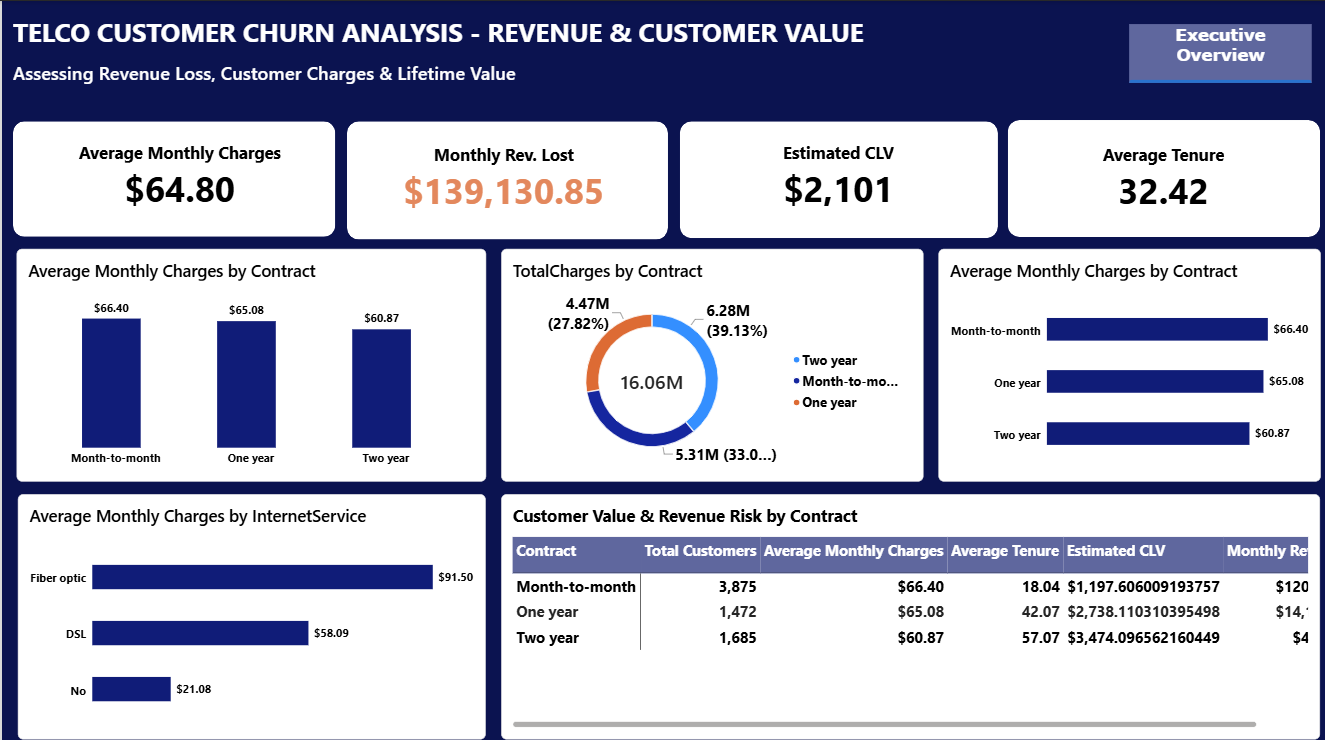

What the dashboard file says about the page in this screenshot:
{"tool":"powerbi","page":{"name":"REVENUE & CUSTOMER VALUE","canvas":[1920,1080],"ordinal":4},"visuals":[{"type":"shape","box":[16.5,172.9,465.2,166.7],"z":0},{"type":"shape","box":[498.2,172.9,463.2,170.8],"z":1000},{"type":"shape","box":[977.8,172.9,459,168.8],"z":2000},{"type":"shape","box":[1451.2,170.9,450.8,168.8],"z":3000},{"type":"cardVisual","fields":{"Data":["Telecom_Churn_Dataset.Average Tenure"]},"box":[1469.8,172.9,411.7,166.7],"z":4000},{"type":"cardVisual","fields":{"Data":["Telecom_Churn_Dataset.Estimated CLV"]},"box":[992.2,168.8,430.2,170.9],"z":5000},{"type":"cardVisual","fields":{"Data":["Telecom_Churn_Dataset.Average Monthly Charges"]},"box":[30.9,168.8,450.8,170.9],"z":6000},{"type":"cardVisual","fields":{"Data":["Telecom_Churn_Dataset.Monthly Rev. Lost"]},"box":[510.5,170.9,428.2,170.9],"z":7000},{"type":"textbox","box":[15.1,20.1,1270.4,65.3],"z":8000},{"type":"textbox","box":[15.1,85.4,763.3,65.3],"z":9000},{"type":"clusteredColumnChart","title":"Average Monthly Charges by Contract","fields":{"Category":["Telecom_Churn_Dataset.Contract"],"Y":["Telecom_Churn_Dataset.Average Monthly Charges"]},"box":[20.6,358.2,677.2,335.5],"z":10000},{"type":"donutChart","title":"TotalCharges by Contract","fields":{"Category":["Telecom_Churn_Dataset.Contract"],"Y":["Sum(Telecom_Churn_Dataset.TotalCharges)"]},"box":[720.5,358.2,609.3,335.5],"z":11000},{"type":"clusteredBarChart","fields":{"Y":["Telecom_Churn_Dataset.Average Monthly Charges"],"Category":["Telecom_Churn_Dataset.Contract"]},"box":[1350.4,358.2,551.7,335.5],"z":12000},{"type":"clusteredBarChart","fields":{"Y":["Telecom_Churn_Dataset.Average Monthly Charges"],"Category":["Telecom_Churn_Dataset.InternetService"]},"box":[22.6,712.2,675.2,354.1],"z":13000},{"type":"pivotTable","title":"Customer Value & Revenue Risk by Contract","fields":{"Rows":["Telecom_Churn_Dataset.Contract"],"Values":["Telecom_Churn_Dataset.Total Customers","Telecom_Churn_Dataset.Average Monthly Charges","Telecom_Churn_Dataset.Average Tenure","Telecom_Churn_Dataset.Estimated CLV","Telecom_Churn_Dataset.Monthly Rev. Lost"]},"box":[720.5,712.2,1181.6,354.1],"z":14000},{"type":"actionButton","title":"Executive Overview","box":[1626.2,32.9,263.5,84.4],"z":19000}]}

Visuals, with their boxes in screenshot pixels (x1, y1, x2, y2), scaled from the page's 1920x1080 canvas onto the 1325x740 screenshot:
shape: <box>11,118,332,233</box>
shape: <box>344,118,663,235</box>
shape: <box>675,118,992,234</box>
shape: <box>1001,117,1313,233</box>
cardVisual - Telecom_Churn_Dataset.Average Tenure: <box>1014,118,1298,233</box>
cardVisual - Telecom_Churn_Dataset.Estimated CLV: <box>685,116,982,233</box>
cardVisual - Telecom_Churn_Dataset.Average Monthly Charges: <box>21,116,332,233</box>
cardVisual - Telecom_Churn_Dataset.Monthly Rev. Lost: <box>352,117,648,234</box>
textbox: <box>10,14,887,59</box>
textbox: <box>10,59,537,103</box>
"Average Monthly Charges by Contract" clusteredColumnChart: <box>14,245,482,475</box>
"TotalCharges by Contract" donutChart: <box>497,245,918,475</box>
clusteredBarChart - Telecom_Churn_Dataset.Average Monthly Charges x Telecom_Churn_Dataset.Contract: <box>932,245,1313,475</box>
clusteredBarChart - Telecom_Churn_Dataset.Average Monthly Charges x Telecom_Churn_Dataset.InternetService: <box>16,488,482,731</box>
"Customer Value & Revenue Risk by Contract" pivotTable: <box>497,488,1313,731</box>
"Executive Overview" actionButton: <box>1122,23,1304,80</box>
